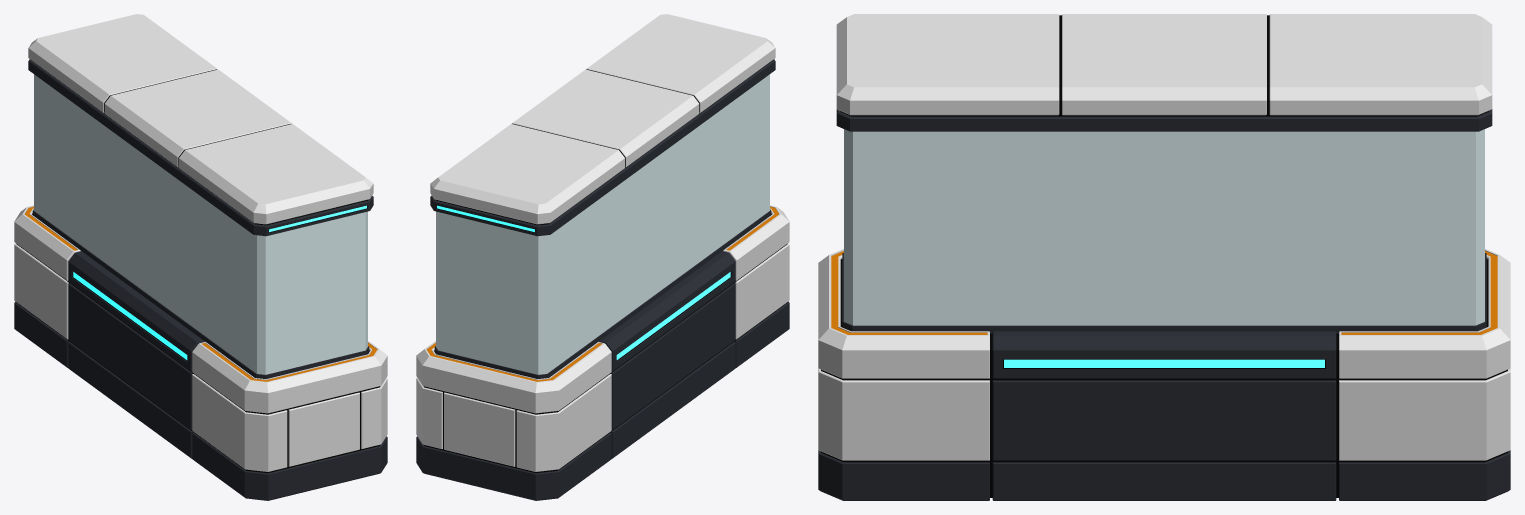
File: SM_Botanical_GlassPlanter_Long.fbx
3 renders of one model, left to right at view 1: azimuth 30°, elevation 25°; view 2: azimuth 150°, elevation 25°; view 3: azimuth 270°, elevation 25°, orthographic. The views are drawn at different scales.
Visible parts, largest first — view 1: SM_Botanical_GlassPlanter_Long; view 2: SM_Botanical_GlassPlanter_Long; view 3: SM_Botanical_GlassPlanter_Long.
Boxes of the visible parts, x1,y1,x2,y2 form: SM_Botanical_GlassPlanter_Long: [14, 14, 387, 500]; SM_Botanical_GlassPlanter_Long: [416, 14, 789, 500]; SM_Botanical_GlassPlanter_Long: [818, 14, 1510, 500].
Bounding box in the file's own units: 60 × 115 × 180.
